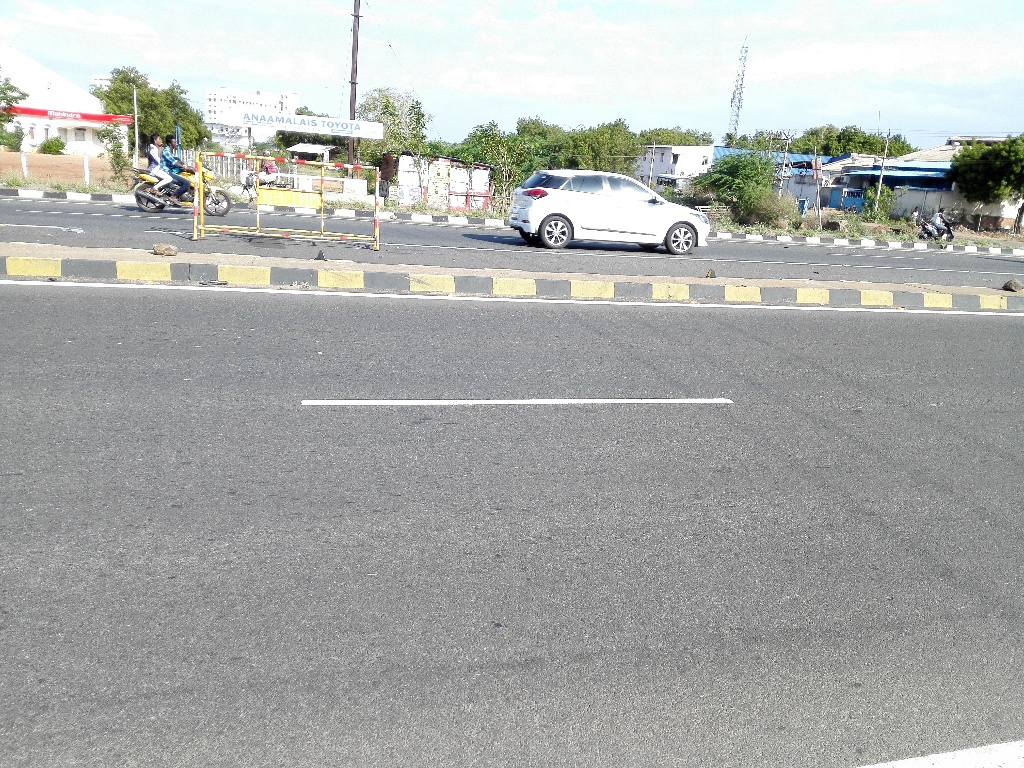biker: (124, 107, 236, 218)
nohelmet: (147, 124, 165, 154), (163, 134, 184, 155)
